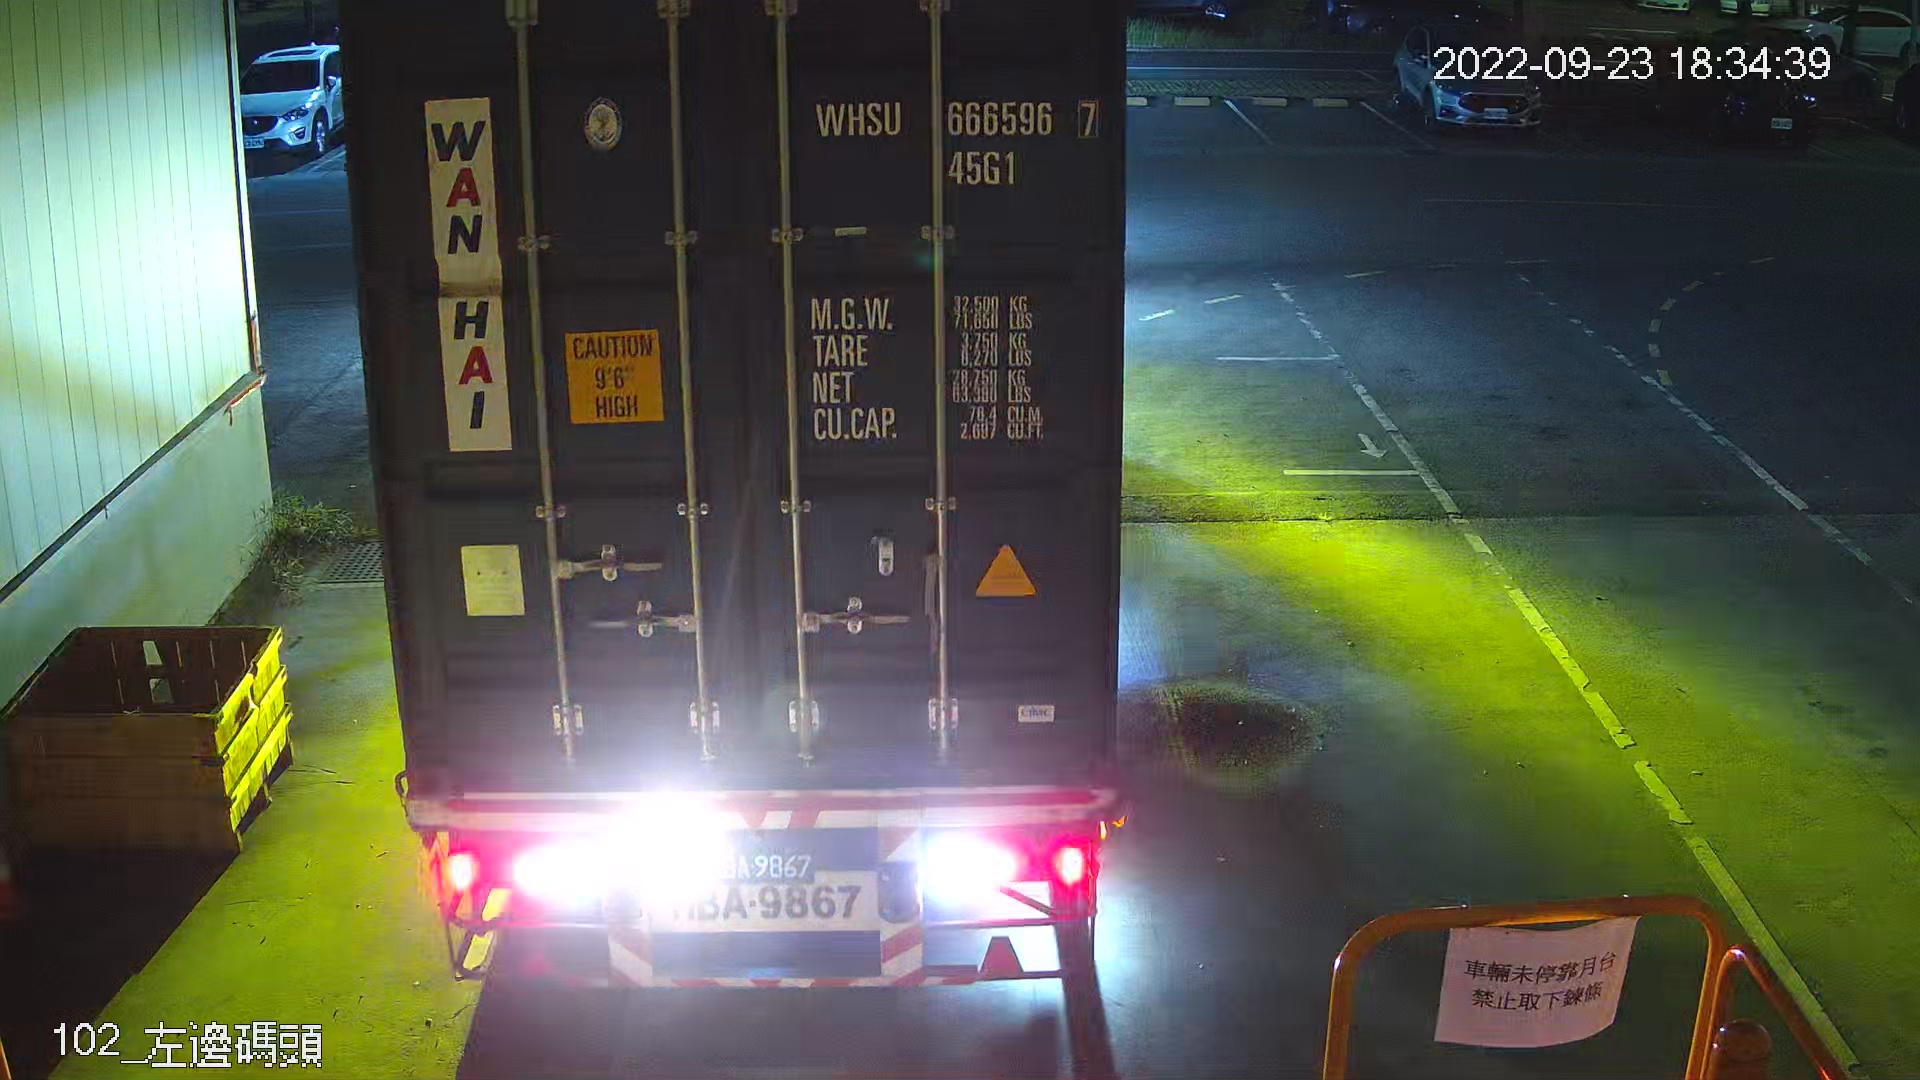container: (810, 80, 1110, 199)
